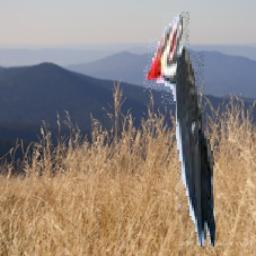Woodpecker: (143, 0, 215, 251)
